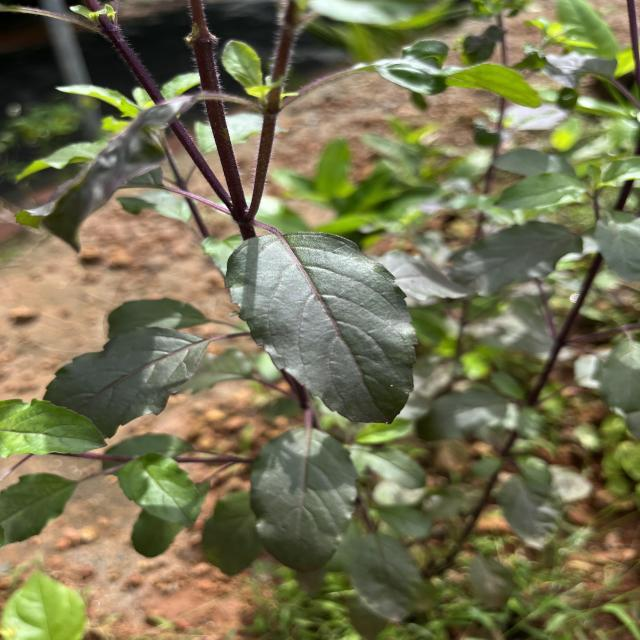Ocimum tenuiflorum: (222, 230, 422, 427)
